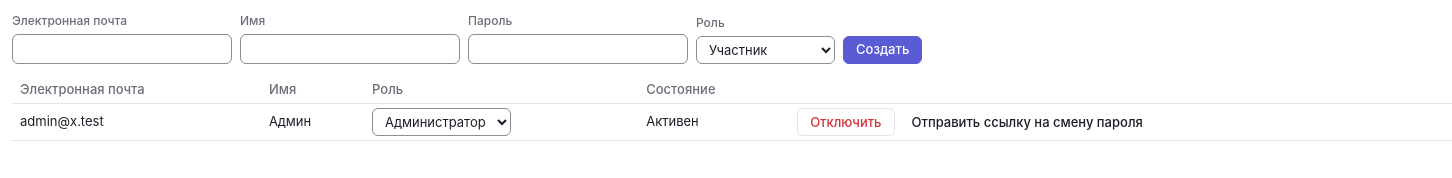
Test case: usersTab_serverRefusal_lastAdministratorIsShownToUser
Click the button with aria-label "Отключить admin@x.test" at [846, 122], box [797,108,894,136]
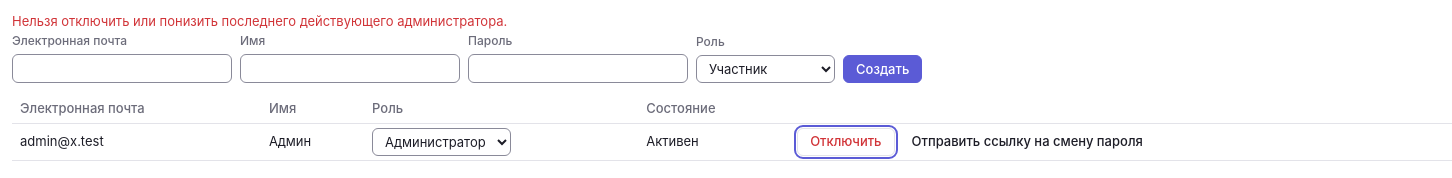
expect the dropdown named "Роль admin@x.test" shows "Администратор": met, box [372,128,511,156]
expect the message reads "Нельзя отключить или понизить последнего действующего администратора.": met, box [12,13,507,29]
